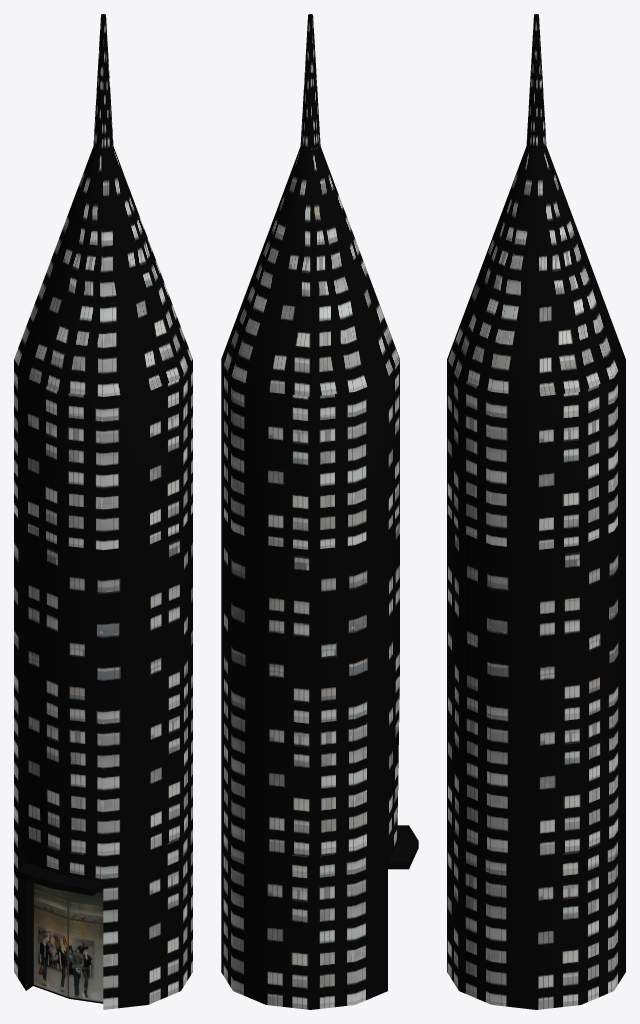
Rendered from building11.FBX.
The picture shows the model from 3 angles, left to right: view 1: azimuth 30°, elevation 25°; view 2: azimuth 150°, elevation 25°; view 3: azimuth 270°, elevation 25°; orthographic projection.
Parts seen in each view (by area): view 1: Cylinder001; view 2: Cylinder001; view 3: Cylinder001.
Boxes of the visible parts, x1,y1,x2,y2 form: Cylinder001: (14,14,192,1009); Cylinder001: (221,14,418,1009); Cylinder001: (447,14,625,1009).
Size of the model in its own units: 27.31 by 146 by 24.78.
